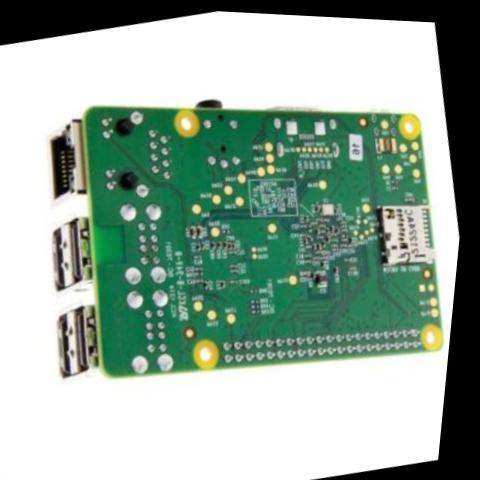Raspberry-Pi-1-Model-B-: (0, 33, 478, 435)
